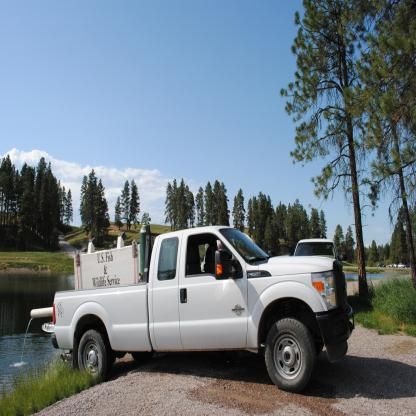Truck: (30, 212, 355, 393)
